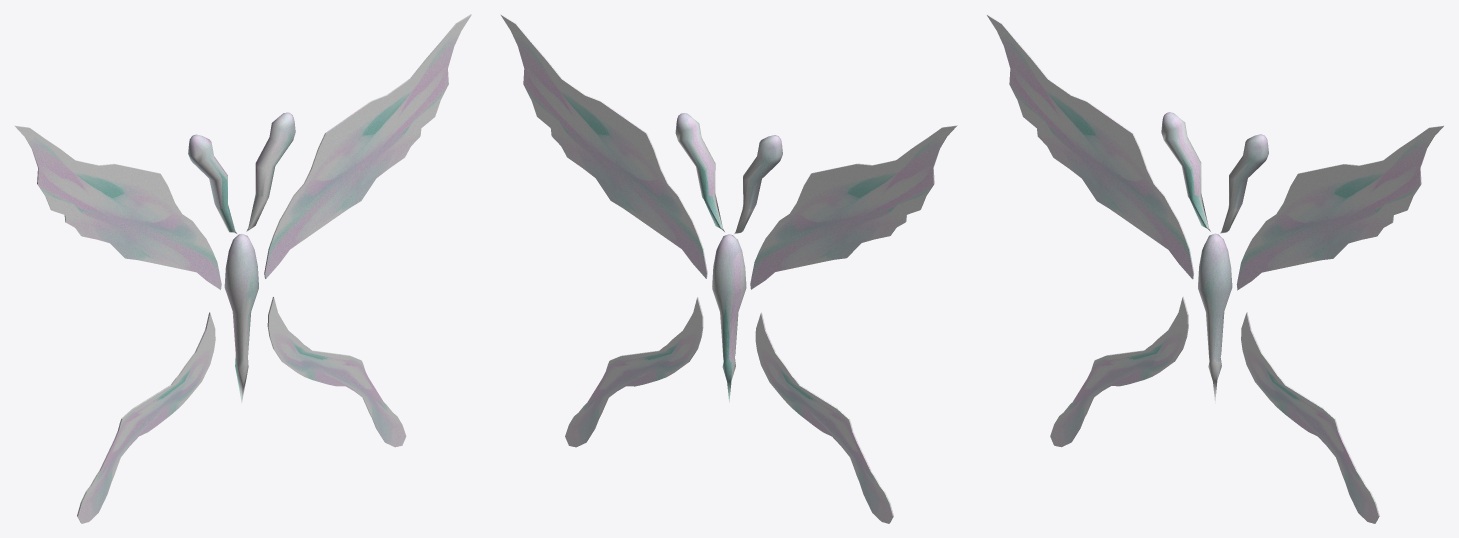
The model's file is pikusi-kari2.fbx.
3 renders of one model, left to right at view 1: azimuth 30°, elevation 25°; view 2: azimuth 150°, elevation 25°; view 3: azimuth 330°, elevation 25°, orthographic.
Visible parts, largest first — view 1: pPlane6; view 2: pPlane6; view 3: pPlane6.
Boxes of the visible parts, x1,y1,x2,y2 form: pPlane6: (14, 14, 471, 523); pPlane6: (500, 14, 957, 523); pPlane6: (986, 14, 1443, 523).
Bounding box in the file's own units: 12.44 × 10.78 × 0.8067.
Materials: 2 (2 with a texture image).
